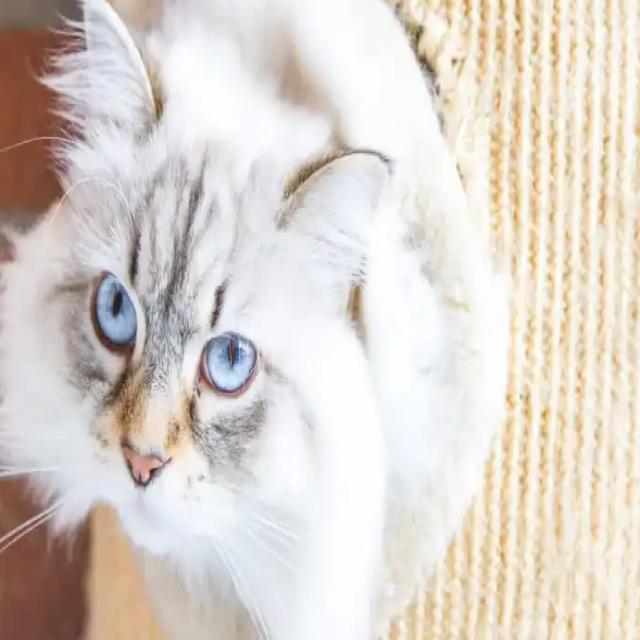Neva Masquerade: (0, 0, 511, 640)
